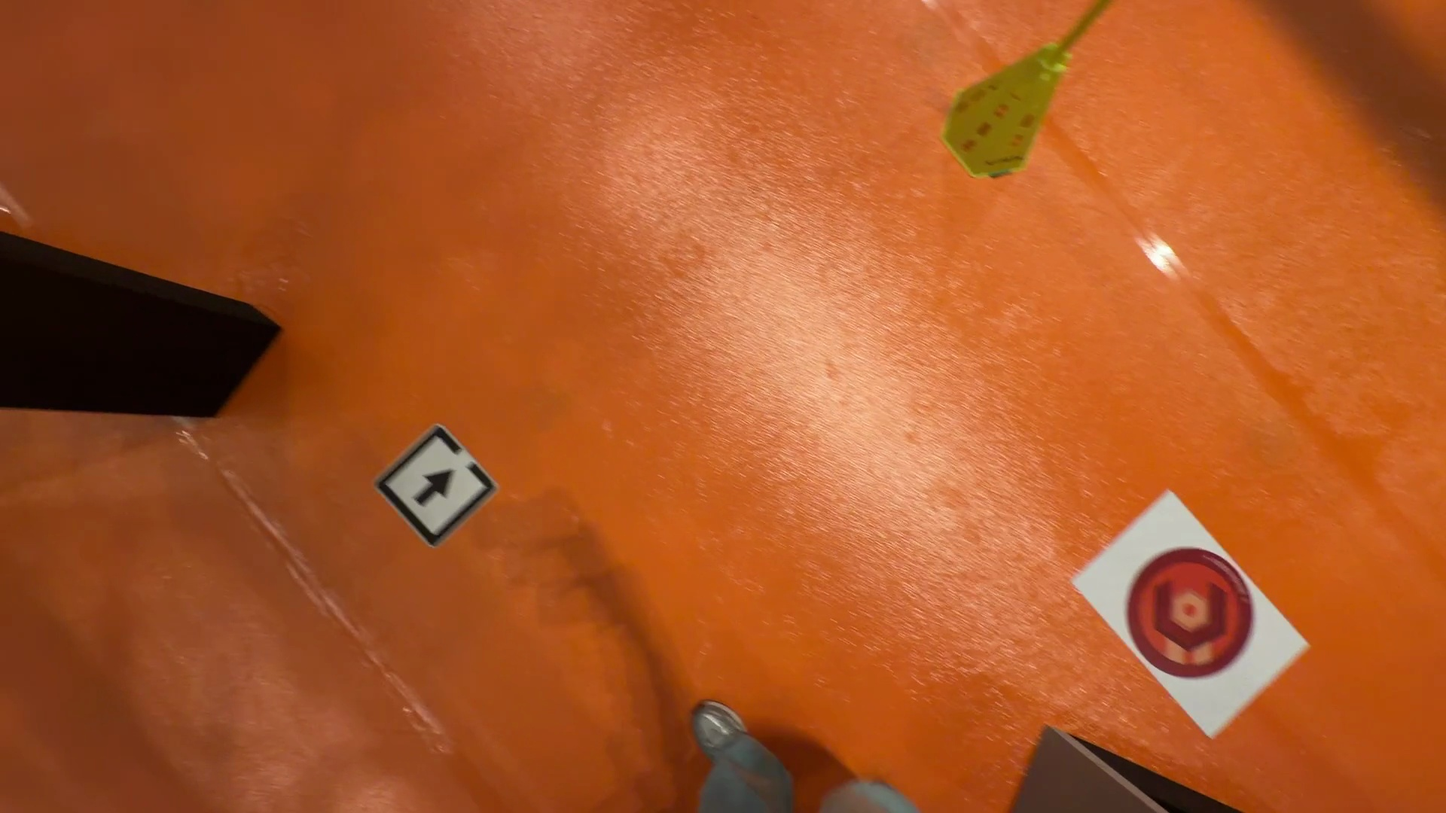landing_pad: (1124, 547, 1258, 684)
